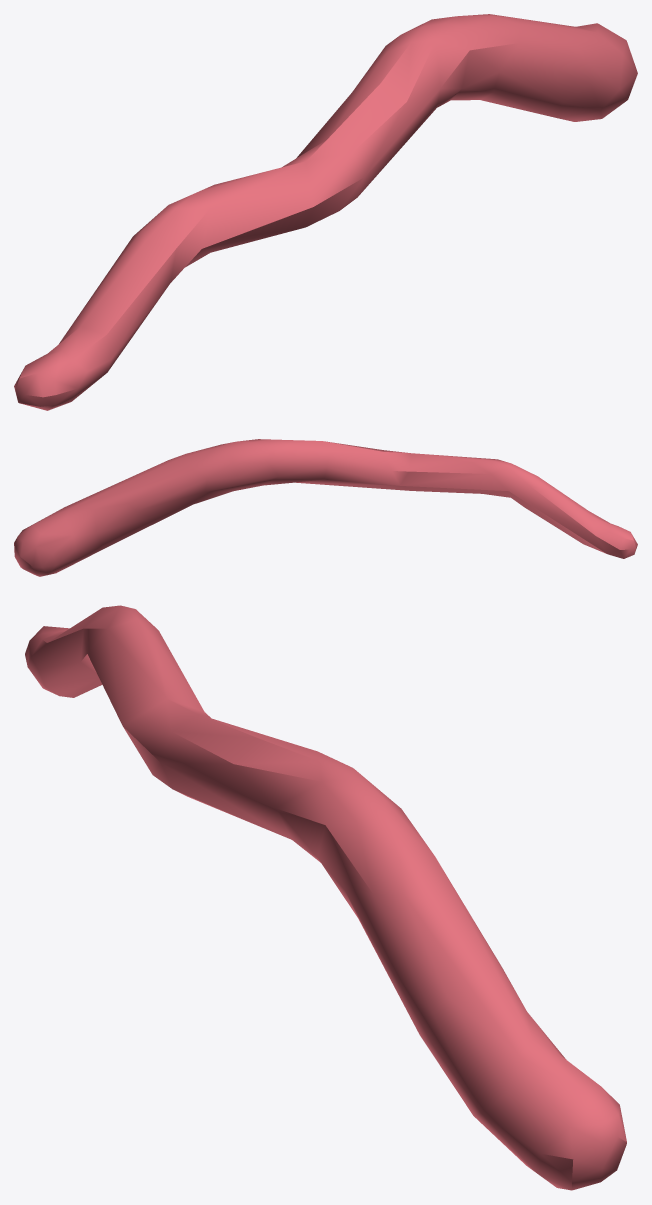
The model's file is fma3868_fj2644.glb.
3 renders of one model, top to bottom at view 1: azimuth 30°, elevation 25°; view 2: azimuth 150°, elevation 25°; view 3: azimuth 270°, elevation 25°, orthographic. The views are drawn at different scales.
Parts seen in each view (by area): view 1: FMA3868_FJ2644; view 2: FMA3868_FJ2644; view 3: FMA3868_FJ2644.
Boxes of the visible parts, x1,y1,x2,y2 form: FMA3868_FJ2644: (14, 14, 637, 410); FMA3868_FJ2644: (14, 439, 637, 576); FMA3868_FJ2644: (25, 605, 626, 1190).
Size of the model in its own units: 0.0145 by 0.00365 by 0.00774.
